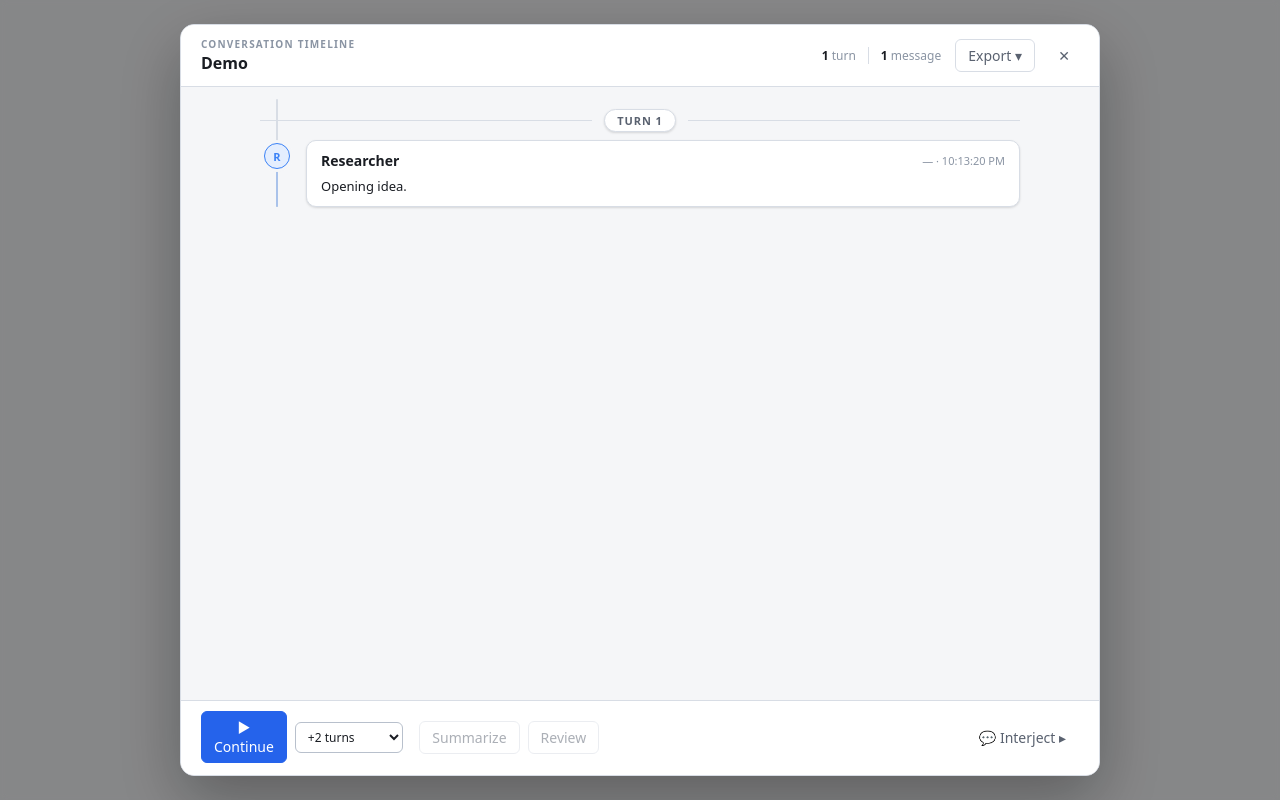
Scenario: TimelinePage footer tools › opens the export menu with all formats and a copy action
This screenshot has width=1280, height=800.
What coordinates should you click on to do the following:
click the button "Export ▾"
I would click on:
 (995, 56)
Its box is [955,39,1035,72].
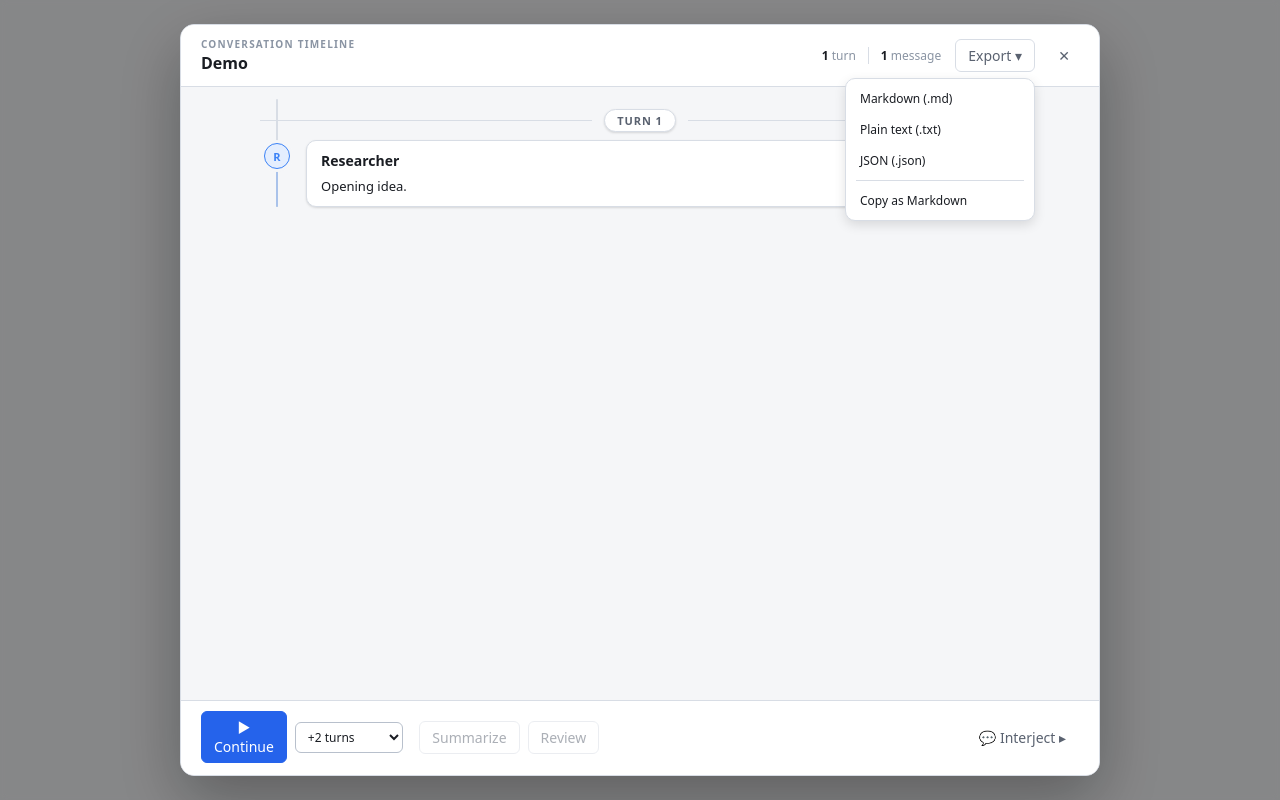
Expected: the menu item "Markdown (.md)" is shown, [850,83,1030,114]
Expected: the menu item "Plain text (.txt)" is shown, [850,114,1030,145]
Expected: the menu item "JSON (.json)" is shown, [850,145,1030,176]
